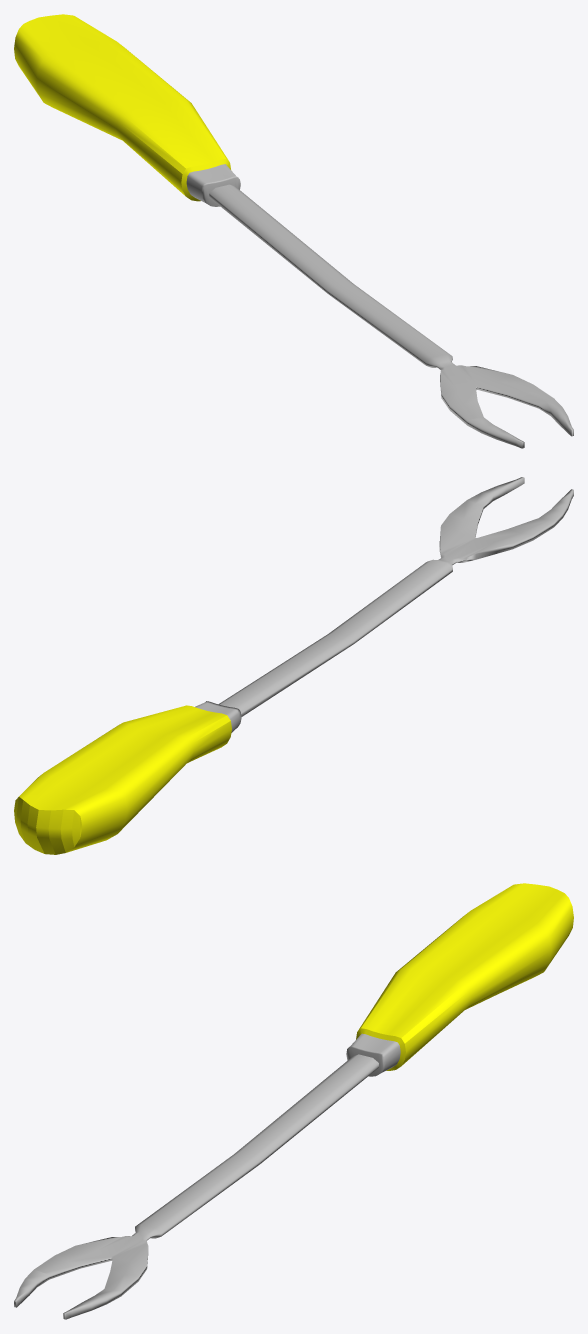
File: fonduefork_002.fbx
3 renders of one model, top to bottom at view 1: azimuth 30°, elevation 25°; view 2: azimuth 150°, elevation 25°; view 3: azimuth 330°, elevation 25°, orthographic.
Visible parts, largest first — view 1: pCylinder4; view 2: pCylinder4; view 3: pCylinder4.
Part boxes in pixels (left/top/right/bottom): pCylinder4: left=14, top=14, right=573, bottom=448; pCylinder4: left=14, top=477, right=573, bottom=854; pCylinder4: left=14, top=883, right=573, bottom=1319.
Size of the model in its own units: 9.18 by 6.03 by 89.68.
